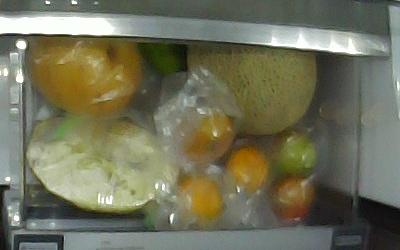cabbage_vinyl: (26, 111, 180, 215)
melon: (187, 41, 317, 135)
pear_vinyl: (27, 37, 143, 116)
prune_vinyl: (183, 113, 235, 161)
tangerine_vinyl: (179, 174, 223, 223), (225, 145, 267, 194)
tomato_vinyl: (267, 129, 316, 178), (268, 174, 313, 219)
zucchini: (141, 41, 187, 89)
